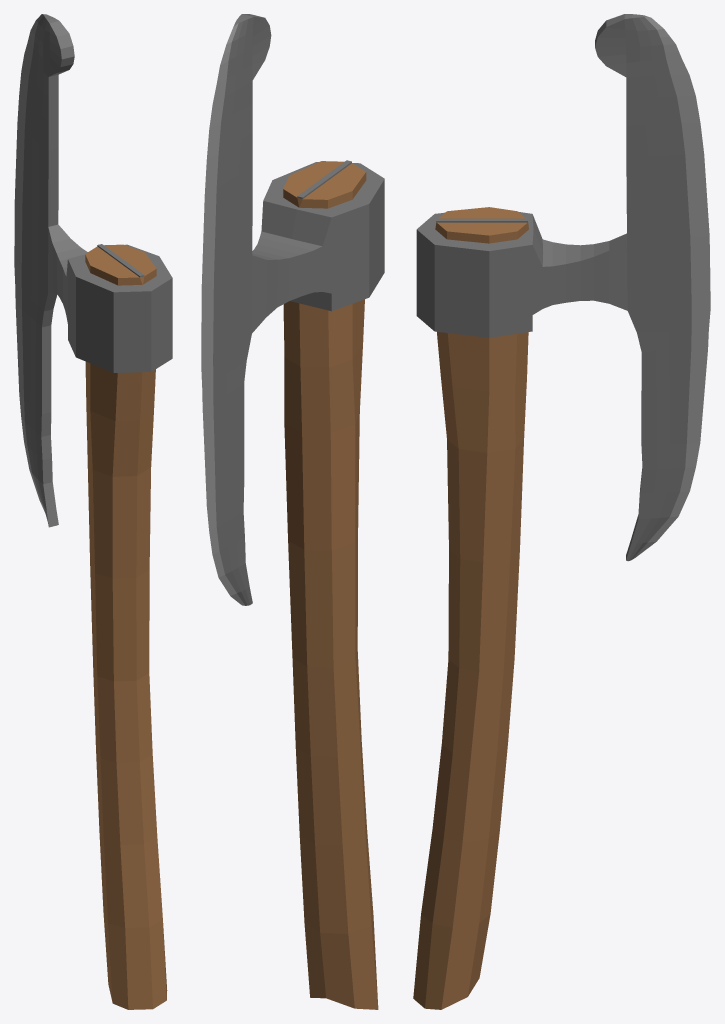
The model's file is broadAxe.fbx.
The picture shows the model from 3 angles, left to right: view 1: azimuth 30°, elevation 25°; view 2: azimuth 150°, elevation 25°; view 3: azimuth 270°, elevation 25°; orthographic projection. The views are drawn at different scales.
Visible parts, largest first — view 1: BroadAxe; view 2: BroadAxe; view 3: BroadAxe.
Boxes of the visible parts, x1,y1,x2,y2 form: BroadAxe: [14, 14, 172, 1009]; BroadAxe: [201, 14, 384, 1009]; BroadAxe: [413, 14, 710, 1009].
Size of the model in its own units: 15.68 by 164 by 45.08.
